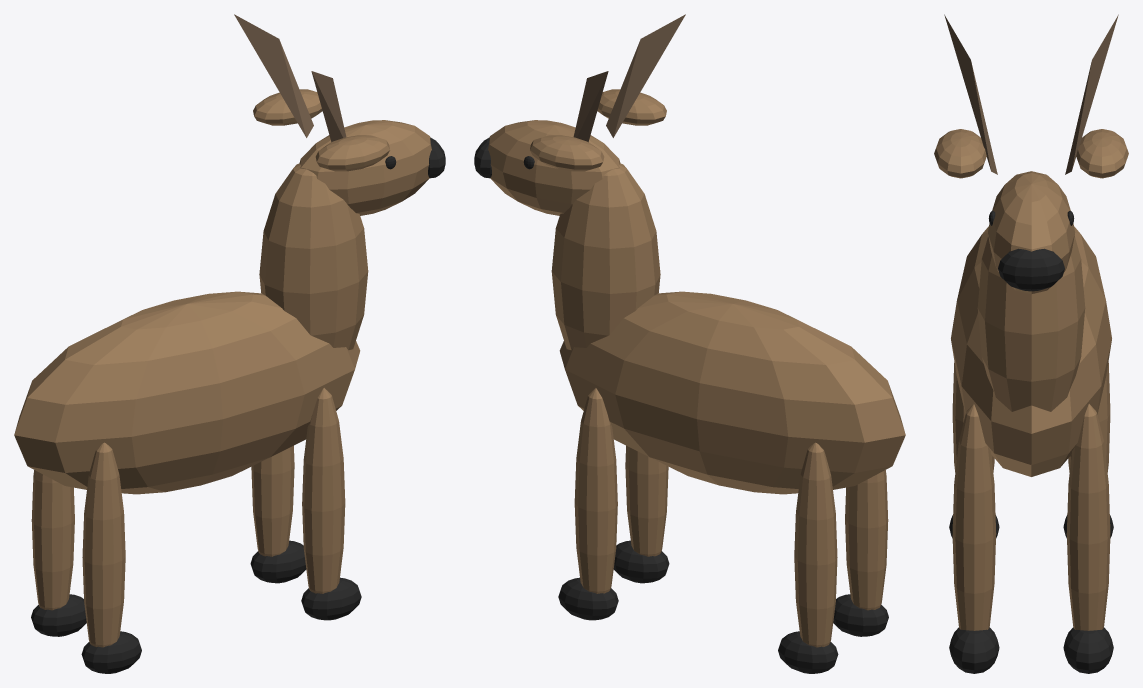
The model's file is SM_Animal_Deer.fbx.
3 renders of one model, left to right at view 1: azimuth 30°, elevation 25°; view 2: azimuth 150°, elevation 25°; view 3: azimuth 270°, elevation 25°, orthographic. The views are drawn at different scales.
Visible parts, largest first — view 1: SM_Animal_Deer; view 2: SM_Animal_Deer; view 3: SM_Animal_Deer.
Part boxes in pixels (x1,y1,x2,y2): SM_Animal_Deer: (14,14,445,673); SM_Animal_Deer: (474,14,905,673); SM_Animal_Deer: (934,14,1128,673).
Size of the model in its own units: 165 by 58 by 209.
